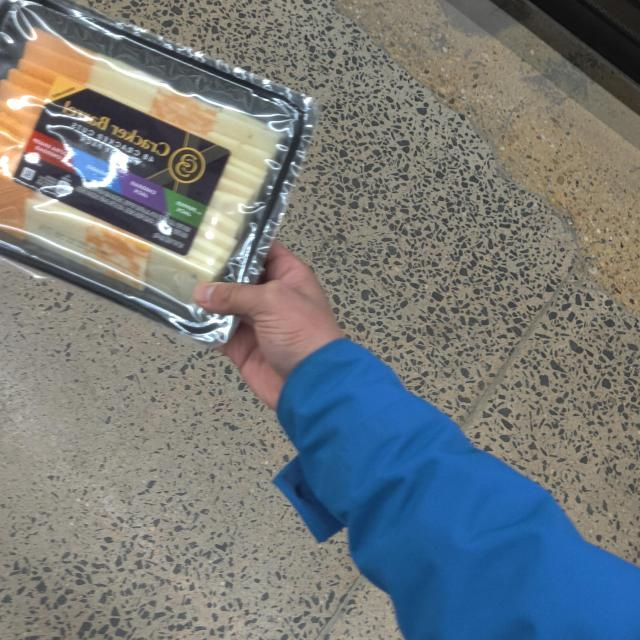cheese: (0, 0, 302, 319)
